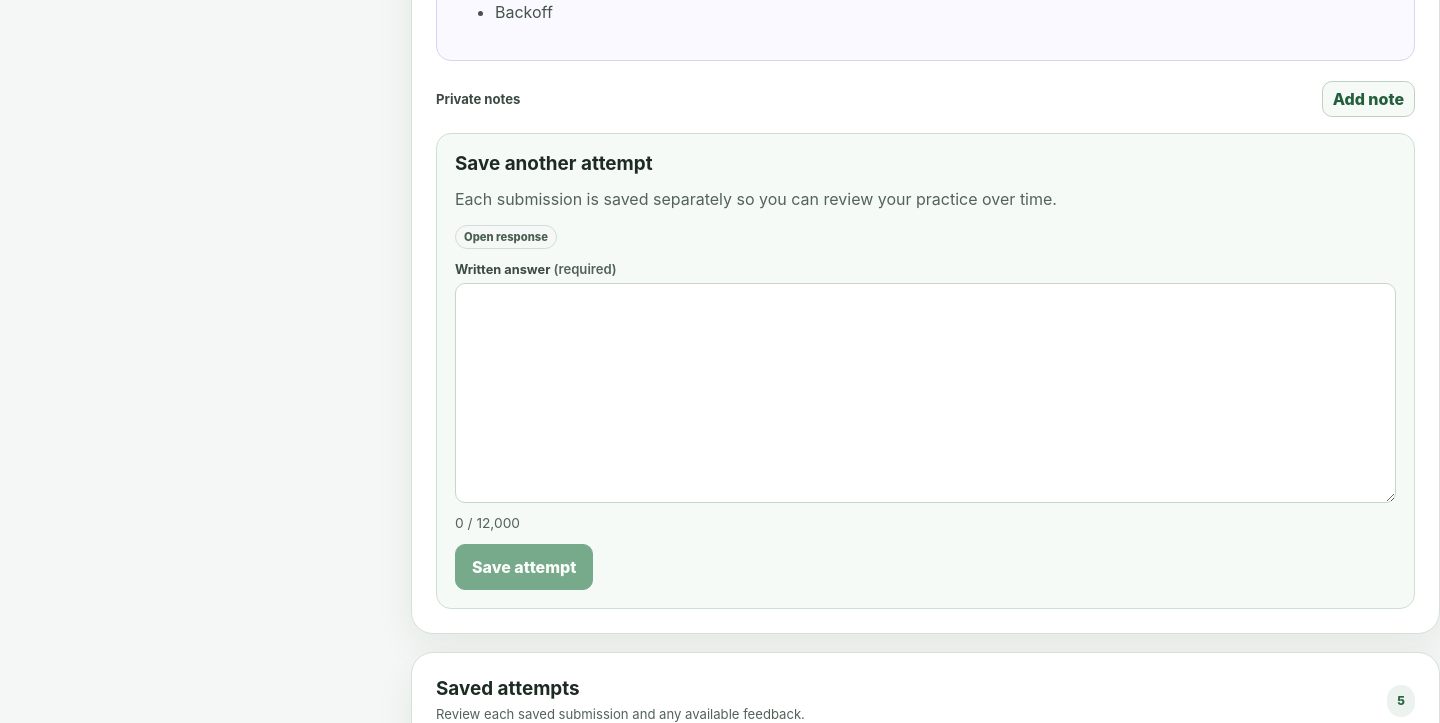
Test: InterviewSessionWorkspace Saved Attempts UX › uses the new save action and success copy without changing attempt immutability
The width and height of the screenshot is (1440, 723).
(page scrolled)
In the text box labelled "Written answer": (926, 393) top-left (455, 283), bottom-right (1396, 503), type "I would use idempotency keys and bounded retries."
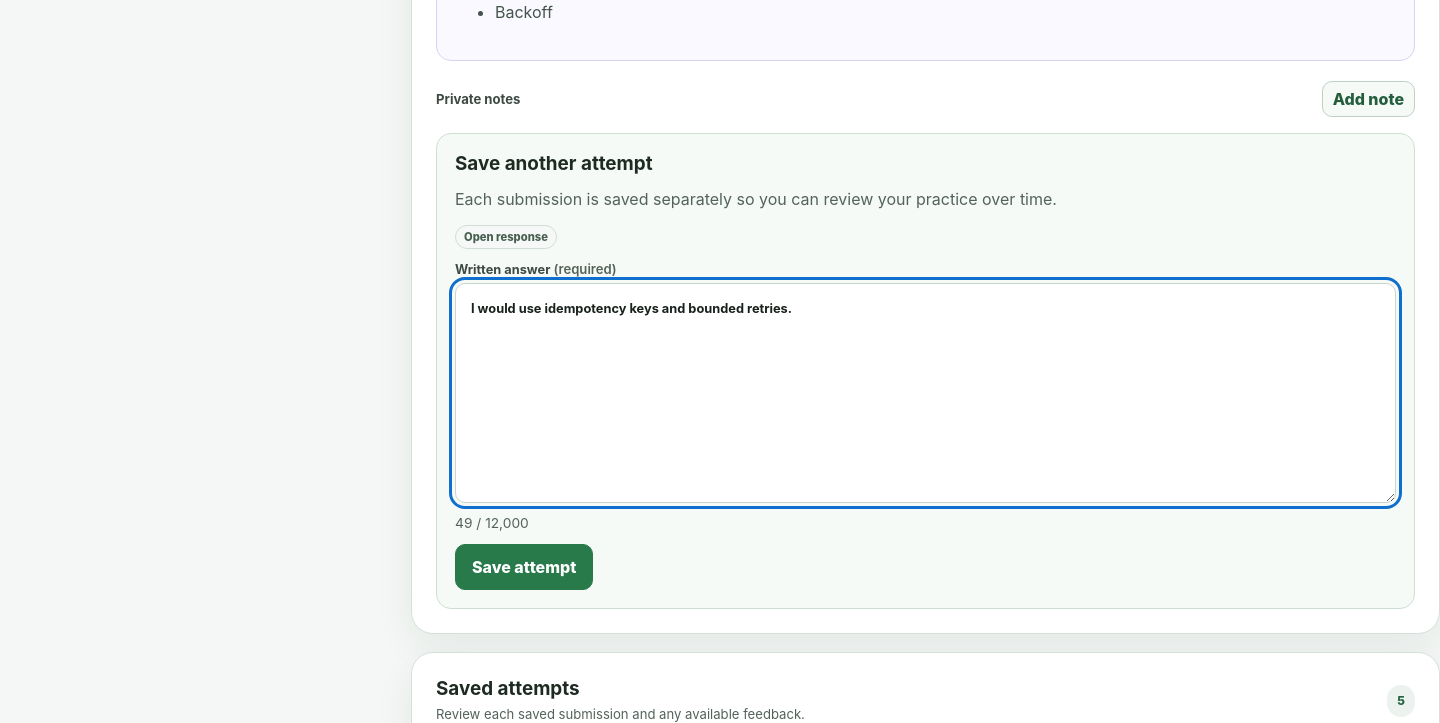
Click the button "Save attempt": (524, 567) top-left (455, 544), bottom-right (593, 590)
(page scrolled)
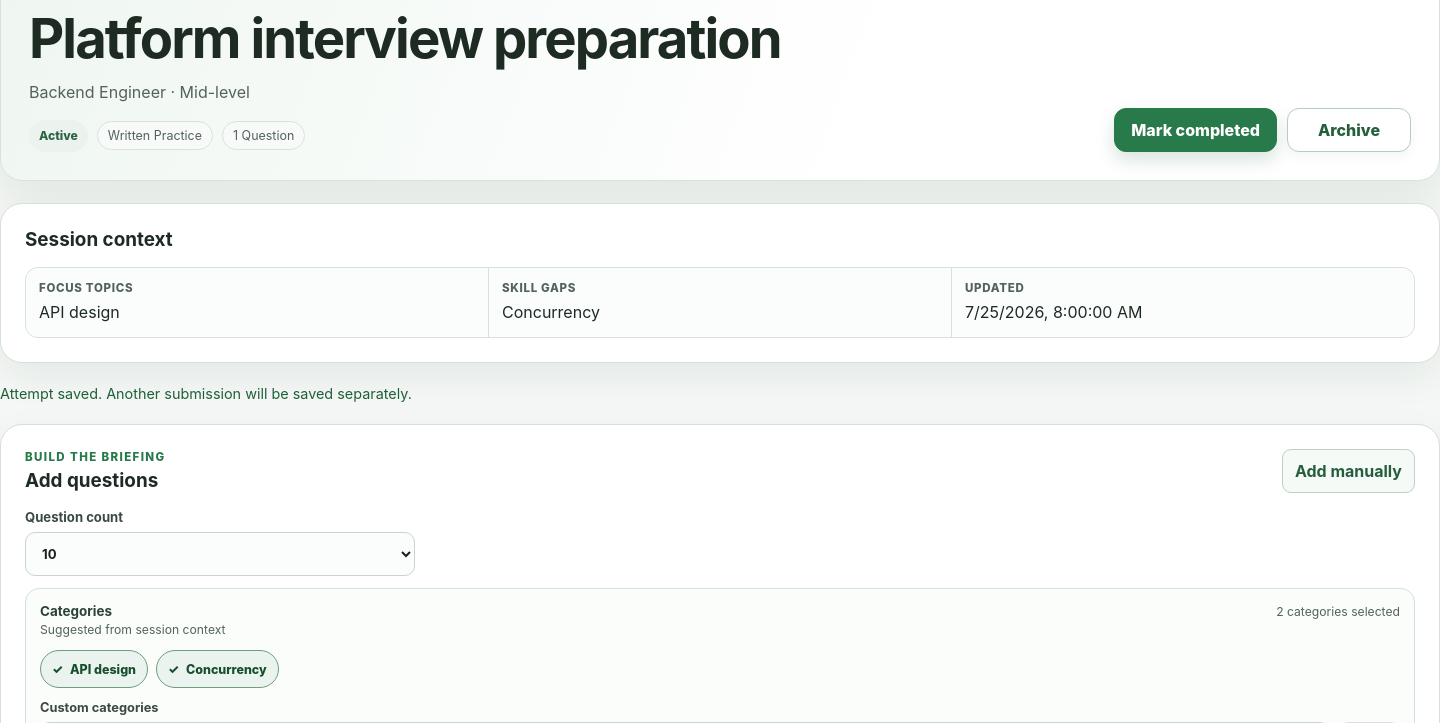
Expected: the text "Attempt saved. Another submission will be saved separately." is shown, top-left (0, 385), bottom-right (412, 402)
